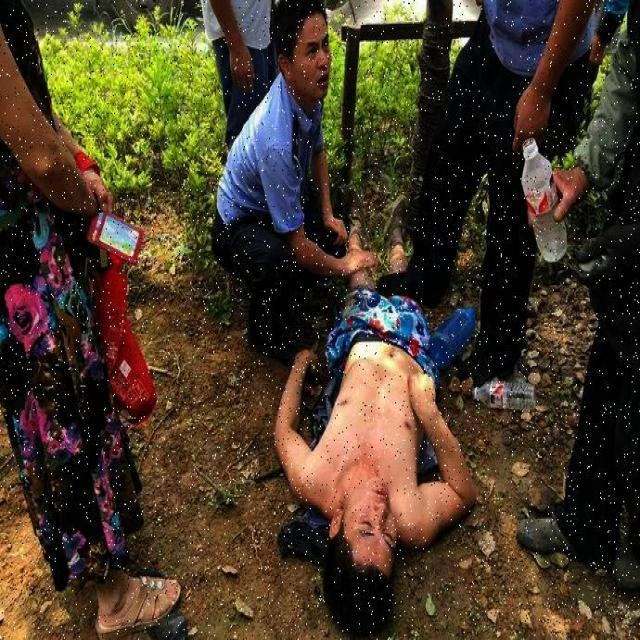fall: (278, 252, 461, 620)
